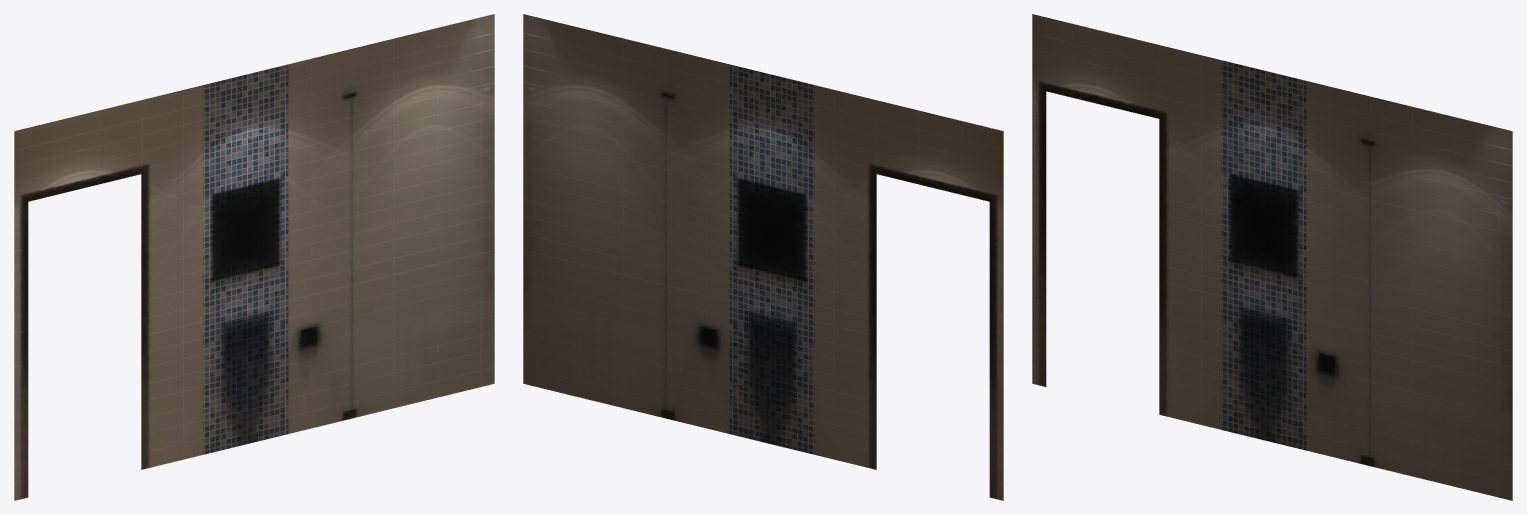
The model's file is qiang1.FBX.
The picture shows the model from 3 angles, left to right: view 1: azimuth 30°, elevation 25°; view 2: azimuth 150°, elevation 25°; view 3: azimuth 330°, elevation 25°; orthographic projection.
Parts seen in each view (by area): view 1: Qiang1; view 2: Qiang1; view 3: Qiang1.
Boxes of the visible parts, box(x1,y1,x2,y2) form: Qiang1: box(14, 14, 494, 500); Qiang1: box(523, 14, 1003, 500); Qiang1: box(1032, 14, 1512, 500).
Size of the model in its own units: 3.4 by 2.5 by 0.
